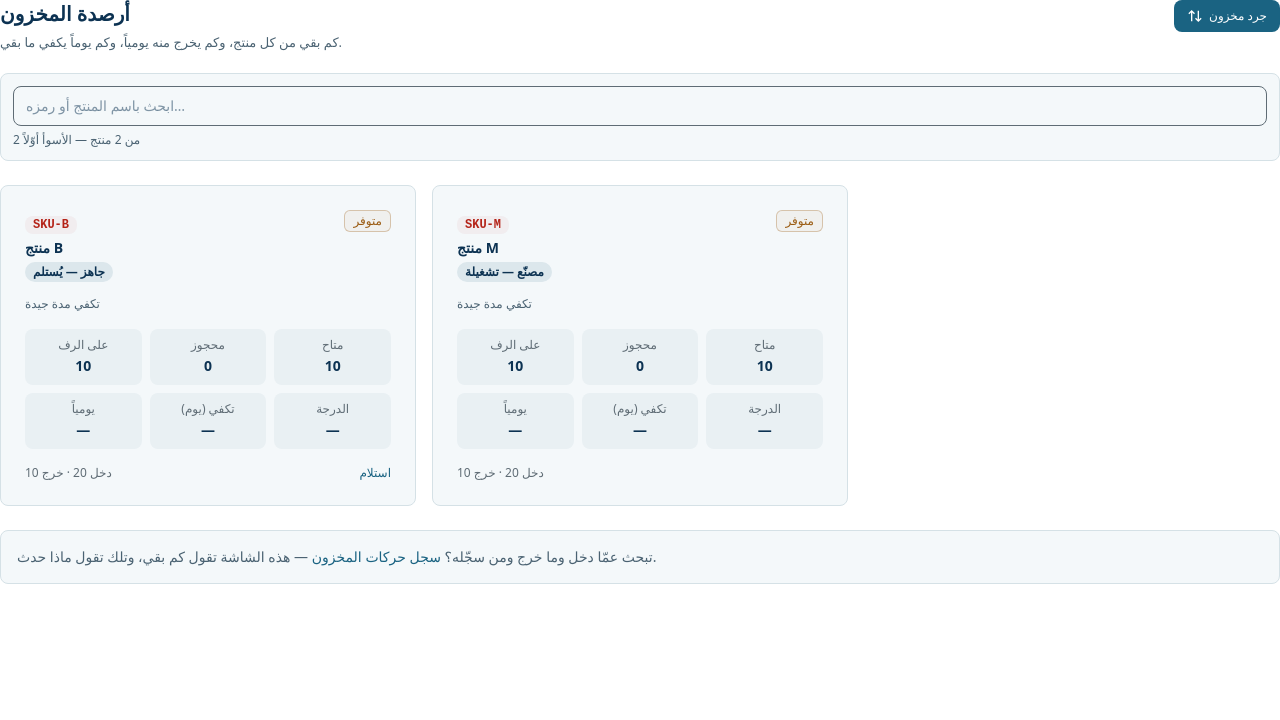
Test case: the «استلام» button on the card › opens the dialog for THAT product, with its balance and last price in it
Expected: the link "منتج B" is shown, 25,238 -> 63,257
Click the button "استلام": (375, 473) 359,465 -> 391,481
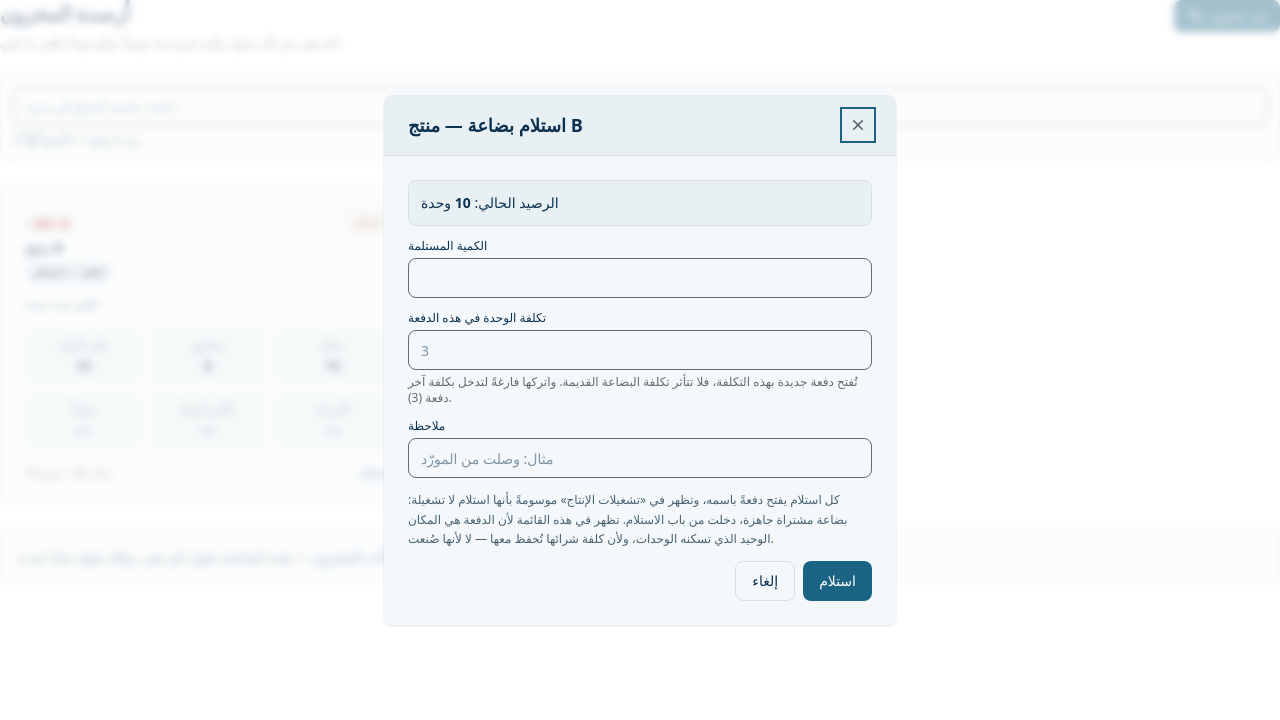
Now the heading "استلام بضاعة — منتج B" is shown, box 408,111 -> 583,139
Now the text "الرصيد الحالي: 10 وحدة" is shown, box 408,180 -> 872,226
